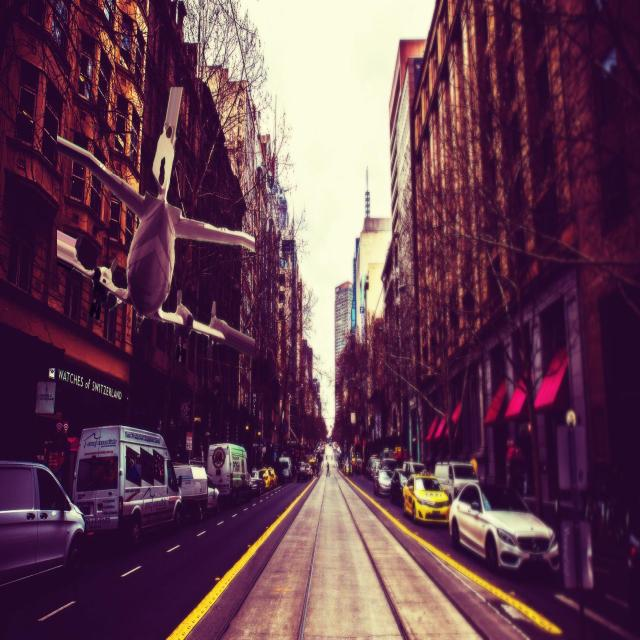airplane: (55, 85, 257, 345)
